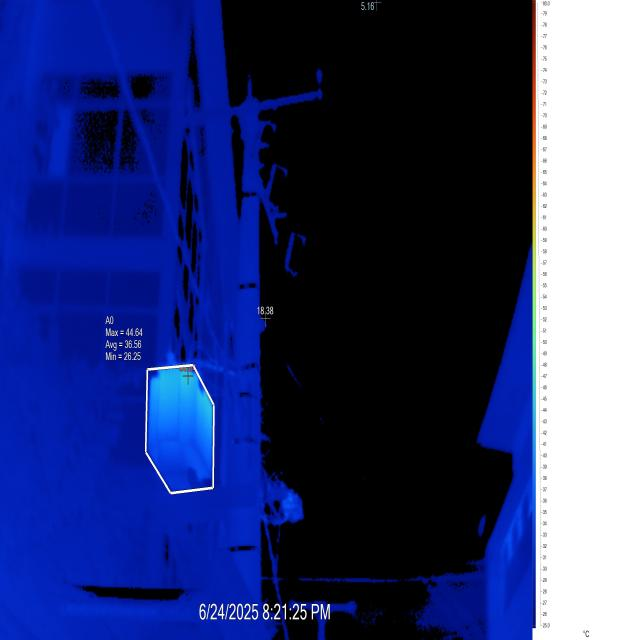Transformer: (127, 62, 337, 580)
